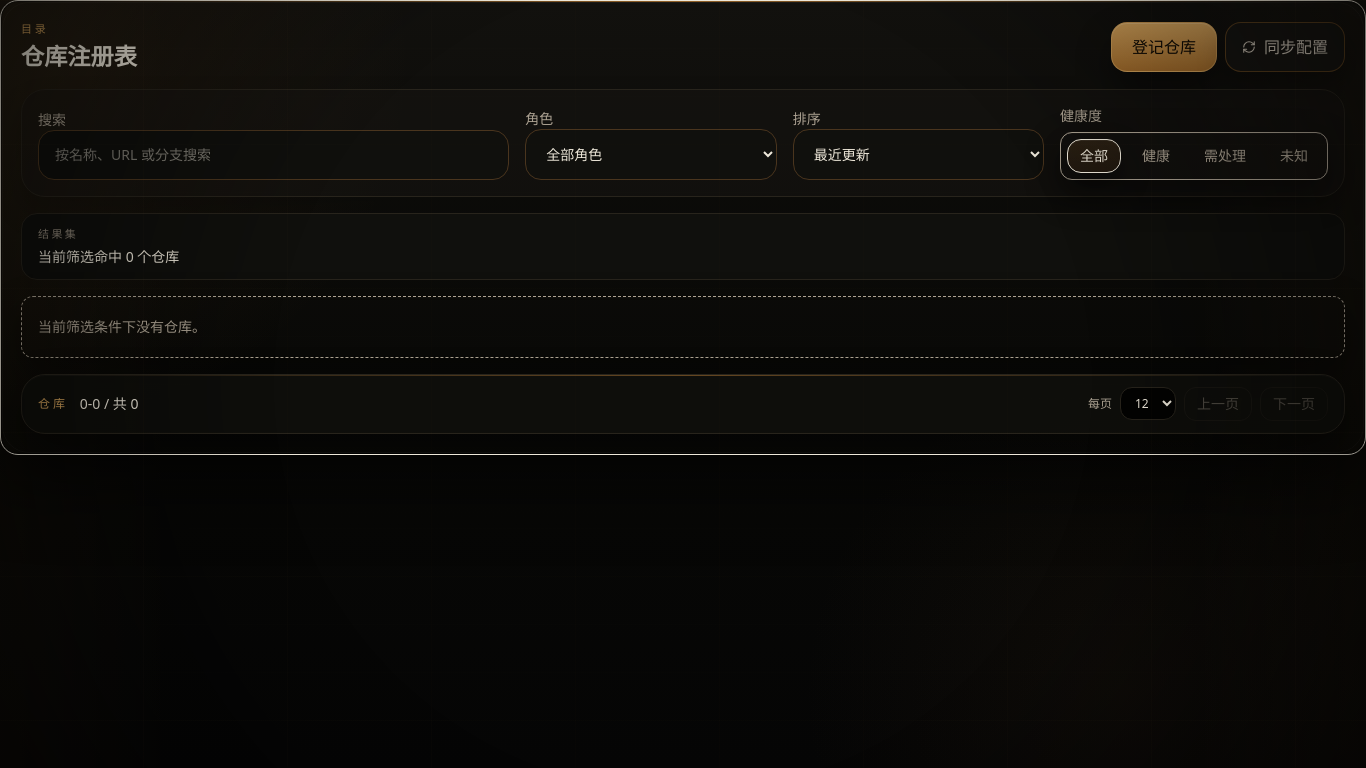
Scenario: ReposPage › shows inline validation error for invalid repo name
Click the button "登记仓库". click: (1164, 47)
box: x1=1111 y1=22 x2=1217 y2=72
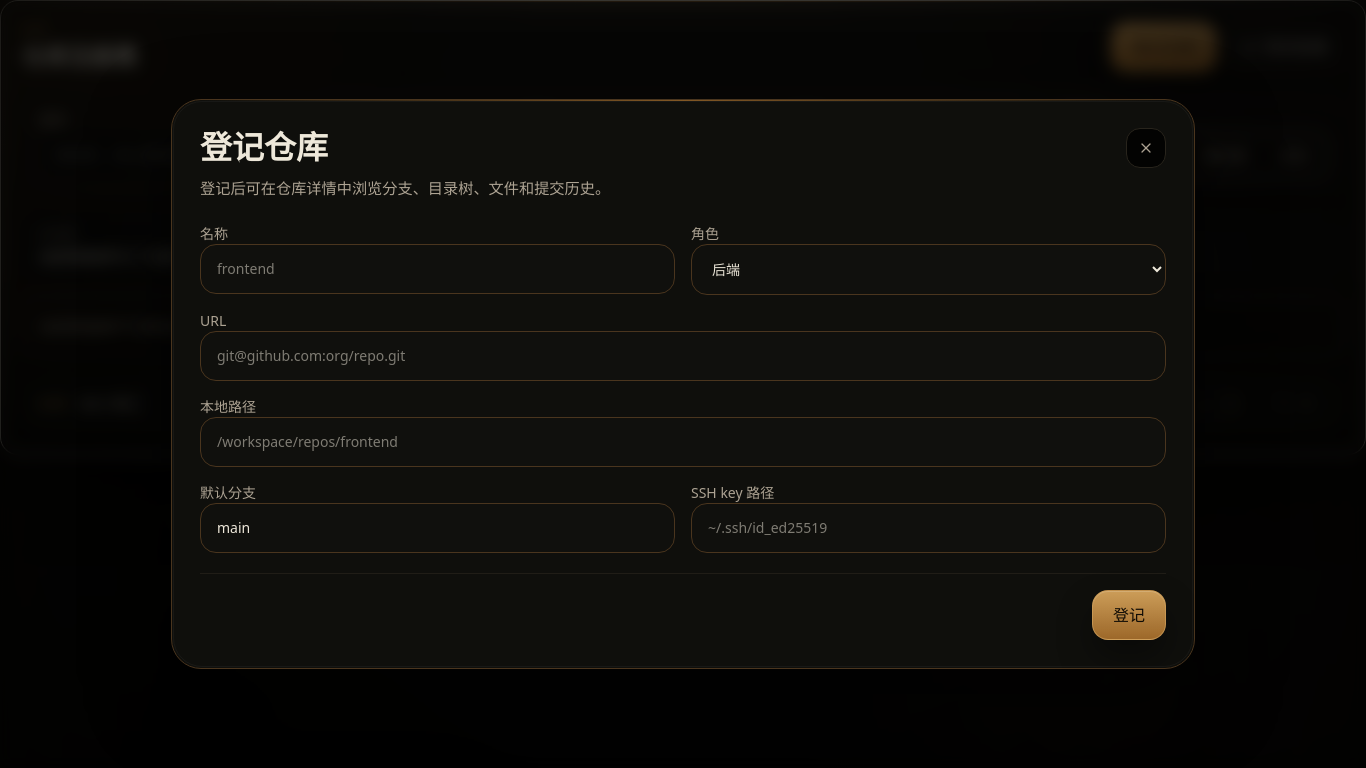
Type "-bad" into the field labelled "名称". click: (438, 269)
box: x1=200 y1=244 x2=675 y2=294
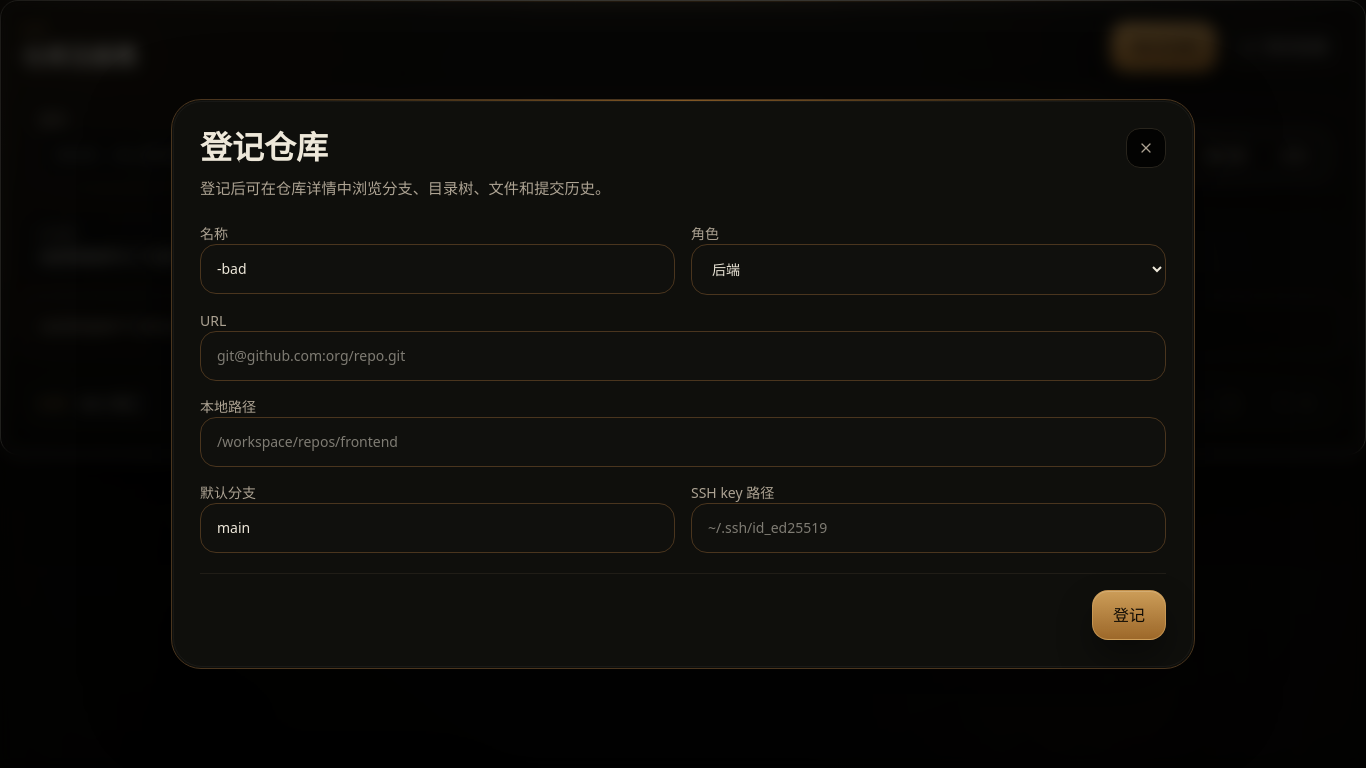
Type "git@github.com:org/x.git" into the field labelled "URL". click: (683, 356)
box: x1=200 y1=331 x2=1166 y2=381
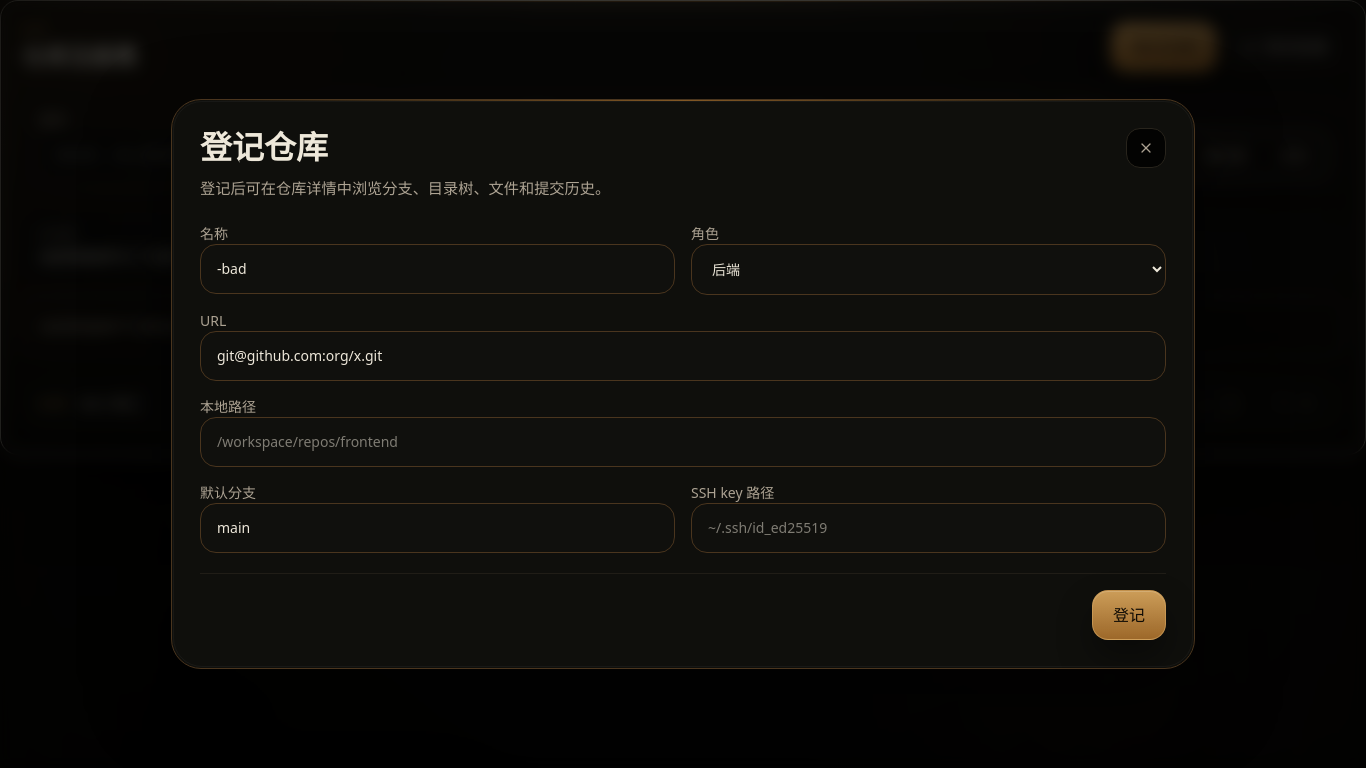
Click the button "登记". click: (1129, 615)
box: x1=1092 y1=590 x2=1166 y2=640
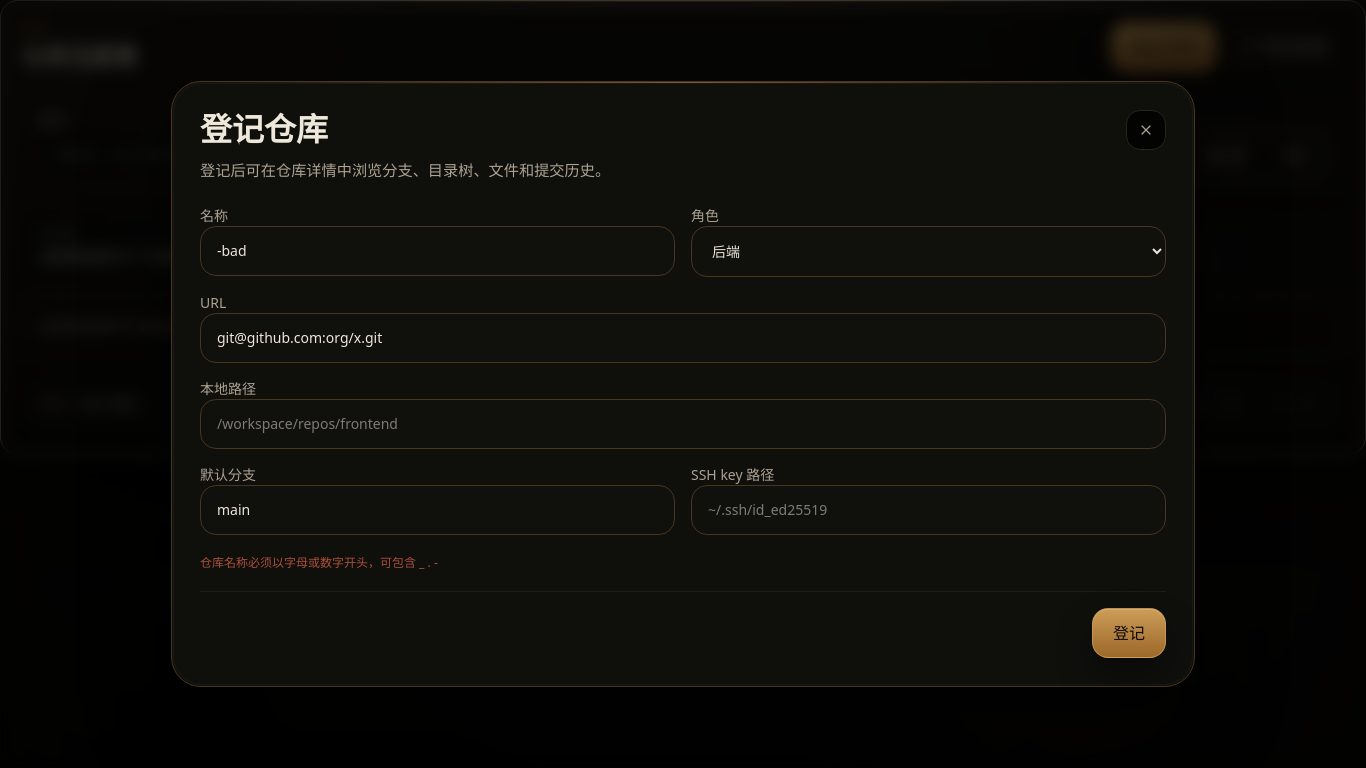
Now the text "仓库名称必须以字母或数字开头，可包含 _ . -" is shown, box x1=200 y1=554 x2=438 y2=571
